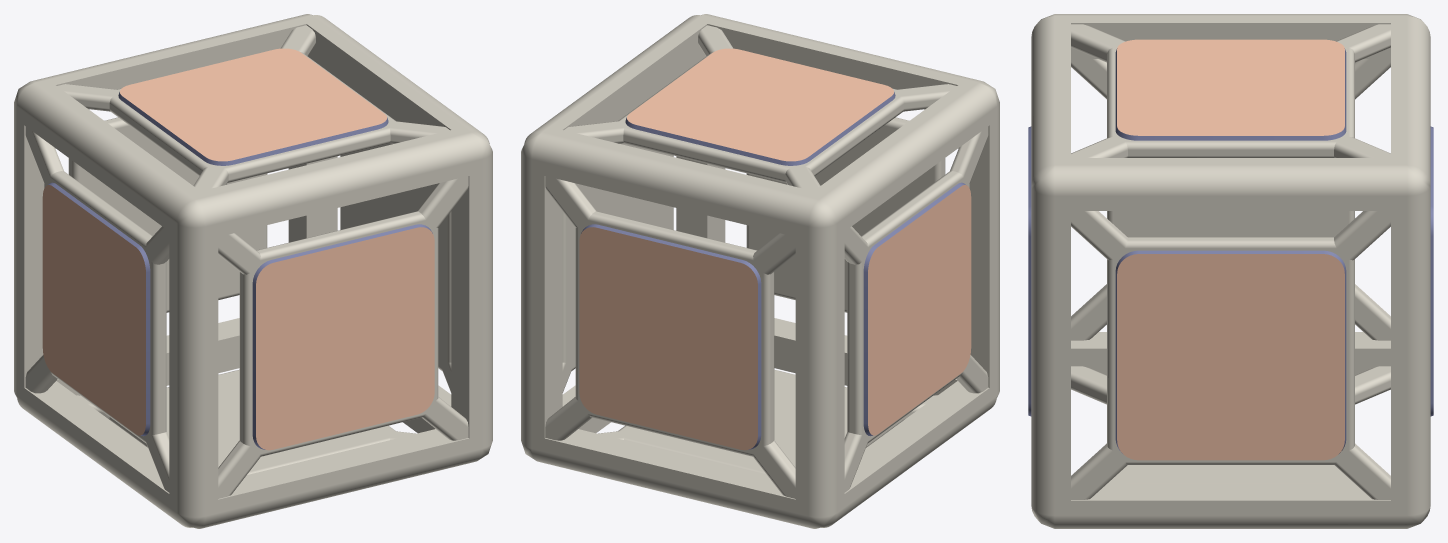
File: R4B_TrussCube.fbx
3 renders of one model, left to right at view 1: azimuth 30°, elevation 25°; view 2: azimuth 150°, elevation 25°; view 3: azimuth 270°, elevation 25°, orthographic. The views are drawn at different scales.
Parts seen in each view (by area): view 1: R4B_TrussCube; view 2: R4B_TrussCube; view 3: R4B_TrussCube.
Part boxes in pixels (x1,y1,x2,y2): R4B_TrussCube: [14, 14, 492, 528]; R4B_TrussCube: [521, 14, 999, 528]; R4B_TrussCube: [1028, 14, 1433, 528].
Size of the model in its own units: 0.52 by 0.52 by 0.52.
